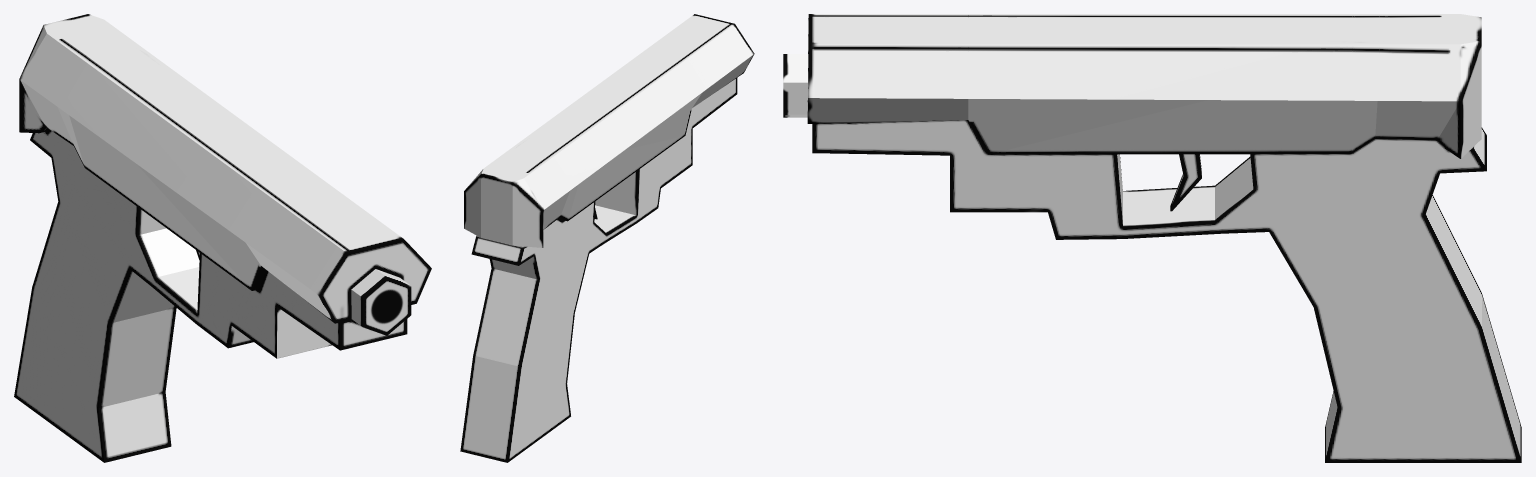
File: Gun_mesh.fbx
3 renders of one model, left to right at view 1: azimuth 30°, elevation 25°; view 2: azimuth 150°, elevation 25°; view 3: azimuth 270°, elevation 25°, orthographic. The views are drawn at different scales.
Parts seen in each view (by area): view 1: Gun.001; view 2: Gun.001; view 3: Gun.001.
Boxes of the visible parts, bbox=[...] form: Gun.001: bbox=[14, 14, 431, 462]; Gun.001: bbox=[460, 14, 754, 462]; Gun.001: bbox=[783, 14, 1521, 462].
Bounding box in the file's own units: 5.18 × 16.82 × 27.05.
1 material, 1 textured.
